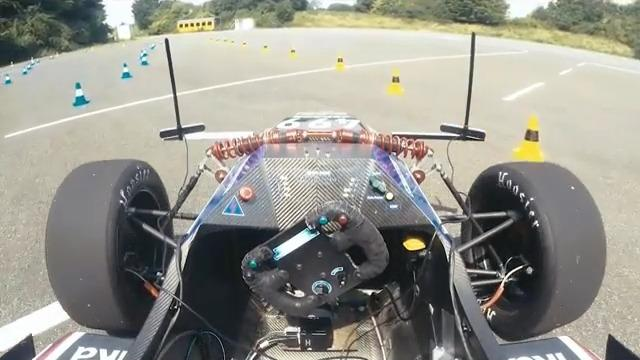blue_cone: (72, 82, 91, 106), (121, 62, 134, 79)
yellow_cone: (513, 116, 546, 164), (385, 68, 406, 95)
